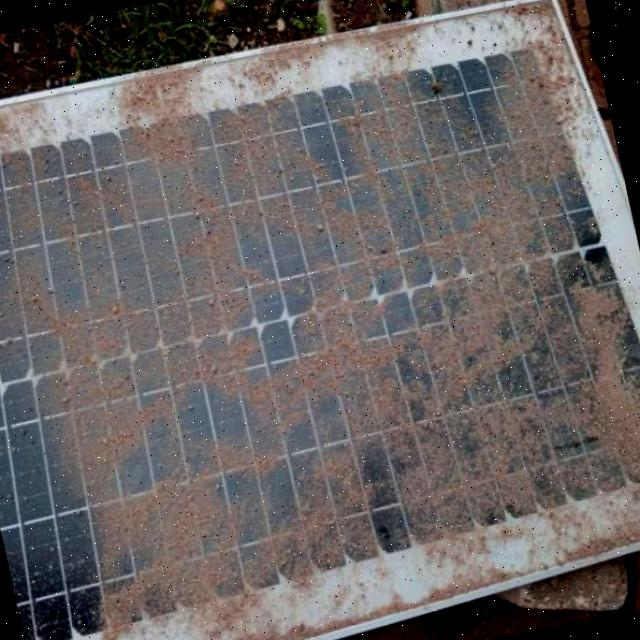Anomaly Solar Panel: (0, 8, 640, 640)
Surface Contaminant: (0, 6, 640, 640)
